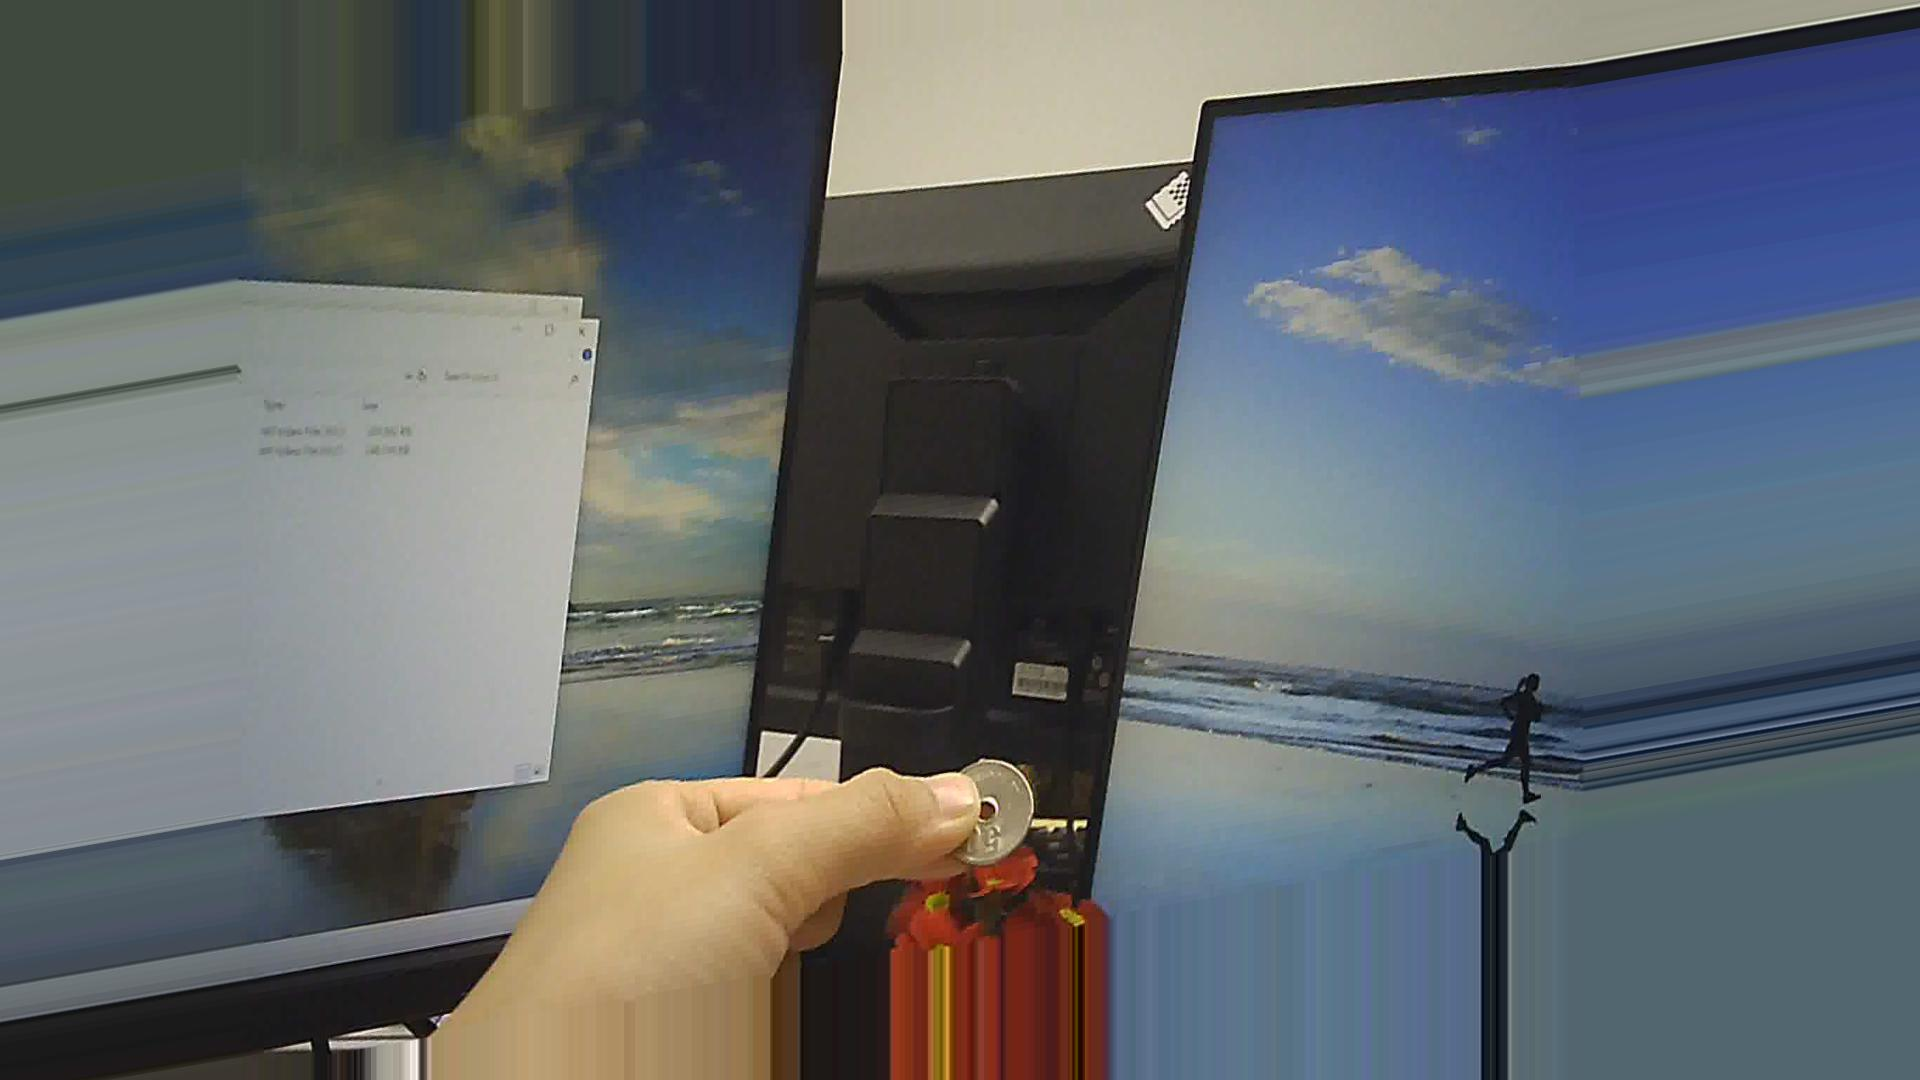50 Yen: (940, 748, 1033, 881)
